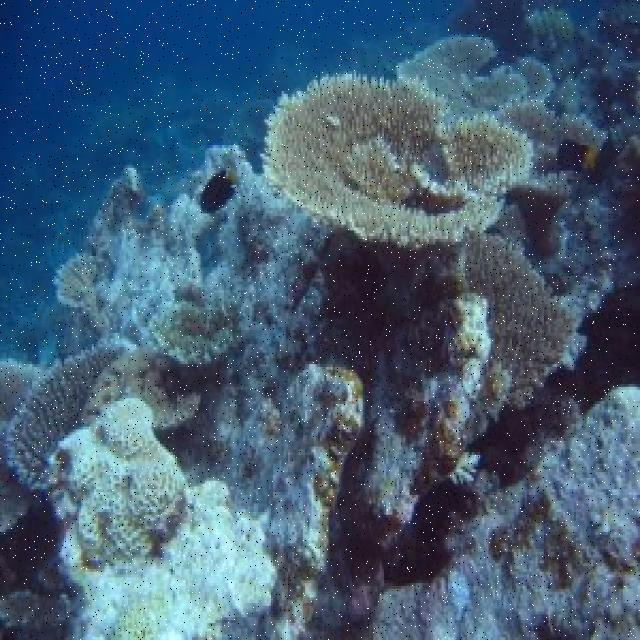Bleached: (376, 382, 640, 640), (59, 141, 326, 368), (208, 362, 364, 640), (62, 485, 282, 639), (52, 402, 189, 563), (567, 179, 640, 369), (425, 298, 489, 480), (365, 399, 420, 524)
Healthy: (271, 76, 527, 242), (10, 347, 132, 500), (468, 234, 569, 415), (402, 37, 553, 125), (81, 355, 204, 426), (506, 106, 611, 173), (513, 188, 568, 257), (613, 138, 640, 198)
